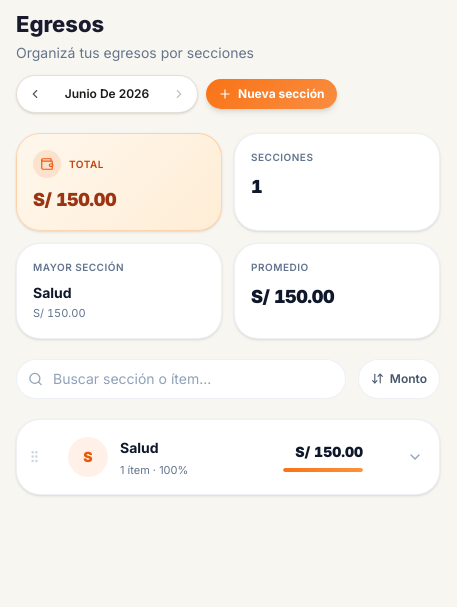
should PresupuestoView › should display correct description for each gasto
Note: Expand the category accordion
Click the button with test id "categoria-header". click: (88, 457)
box: [52,420,439,494]
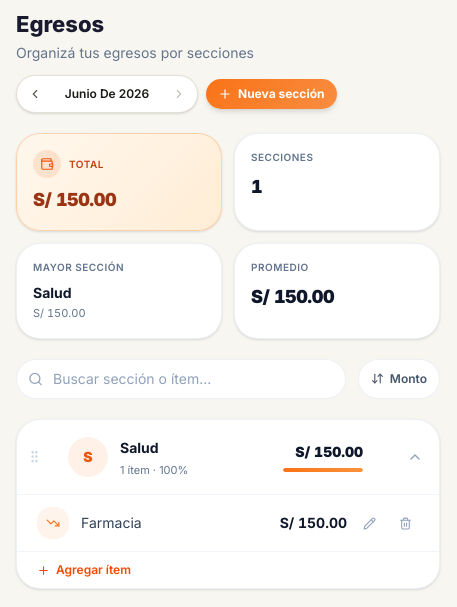
Now the element with test id "gasto-descripcion" reads "Farmacia", box [81,514,142,531]
